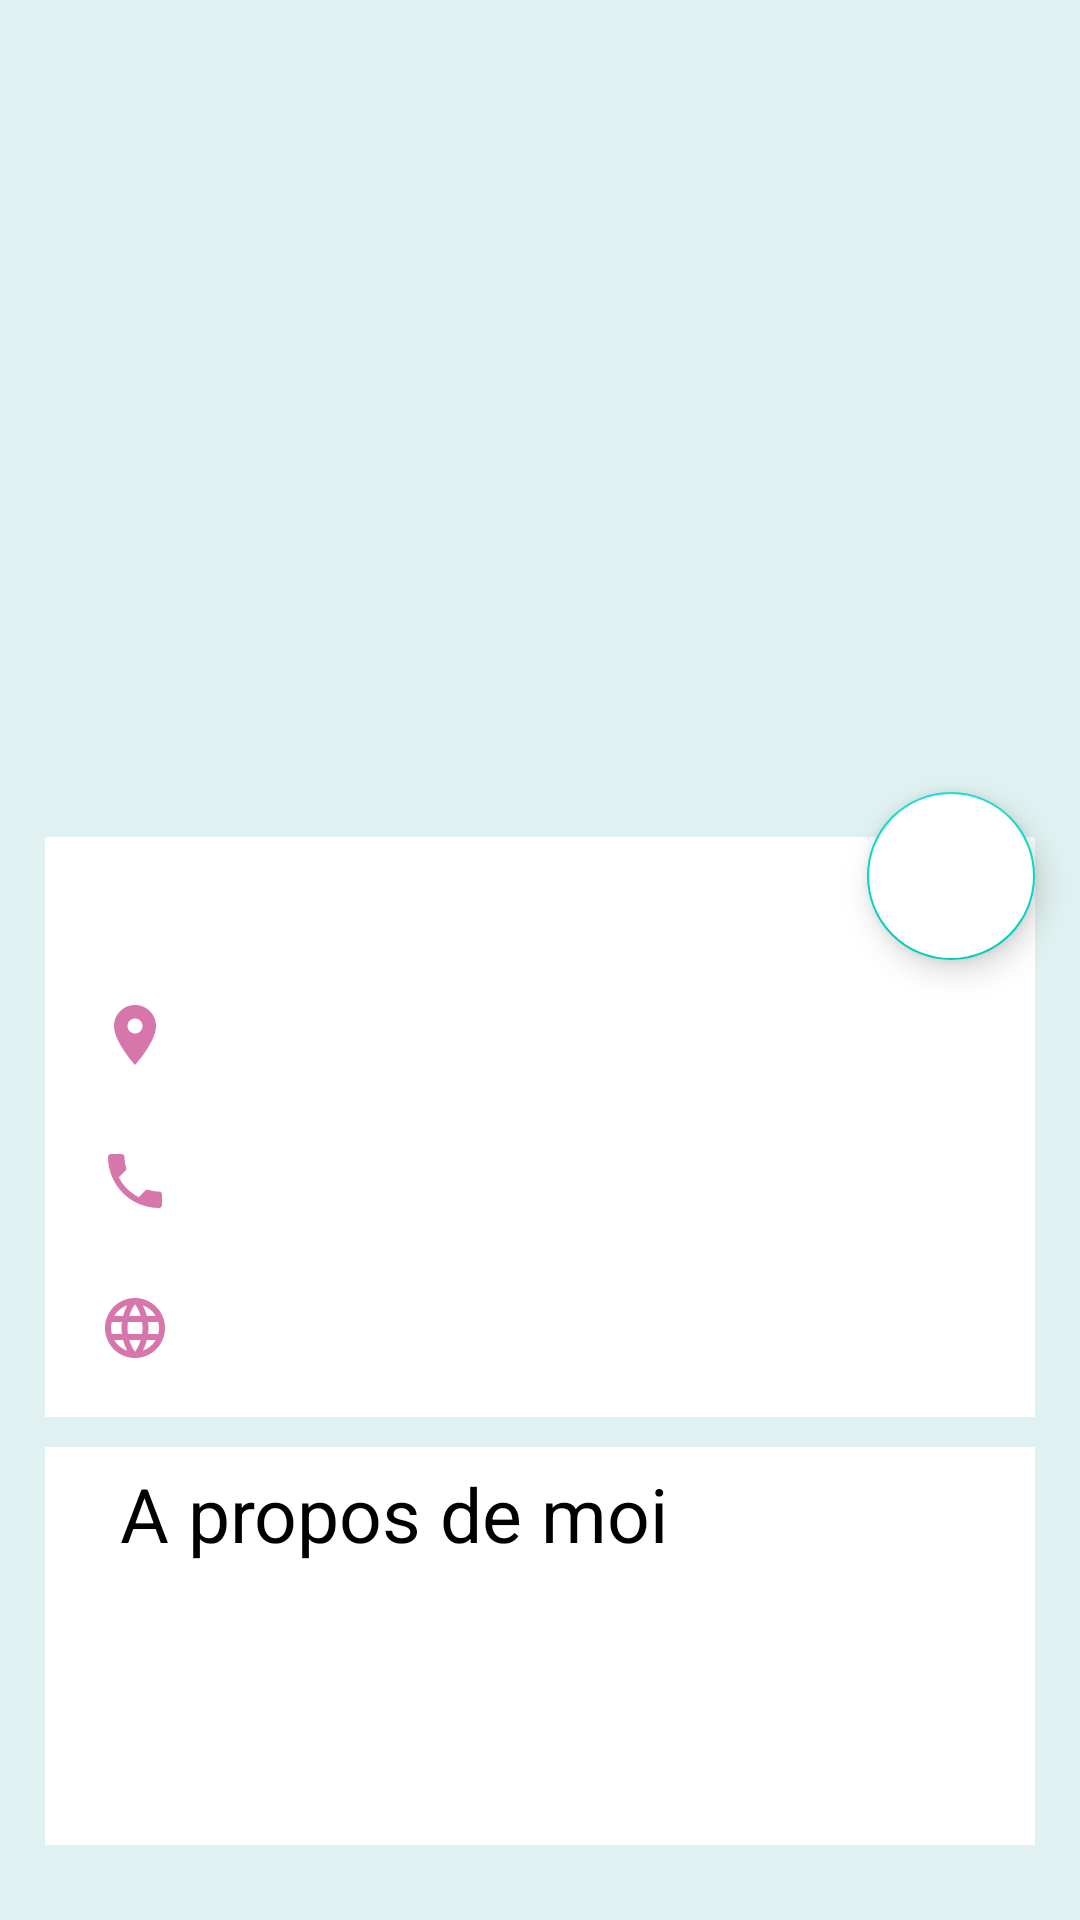

Icons on this 1080px×1920px Android screen, each with its box as (x1, y1, x2, y2):
language: (105, 1298, 165, 1358)
local phone: (108, 1154, 162, 1208)
location on: (114, 1005, 156, 1065)
